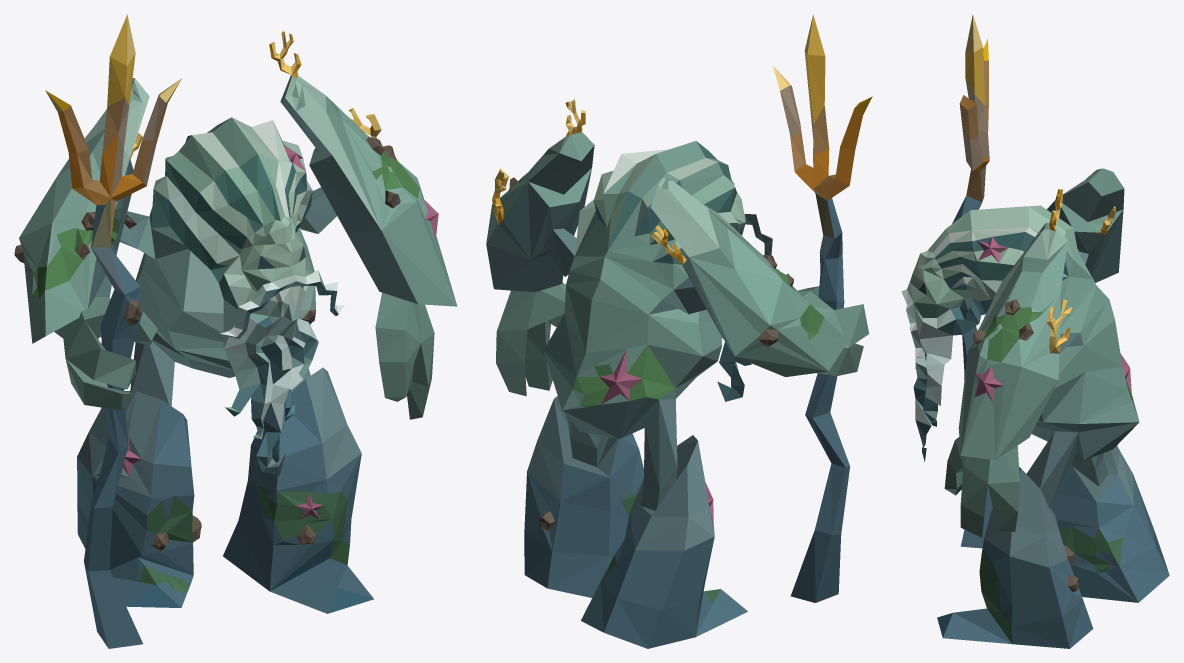
Rendered from guardians-of-the-rift.gltf.
3 renders of one model, left to right at view 1: azimuth 30°, elevation 25°; view 2: azimuth 150°, elevation 25°; view 3: azimuth 270°, elevation 25°, orthographic. The views are drawn at different scales.
Bounding box in the file's own units: 421 × 623 × 285.
Materials: 2 (2 with a texture image).
